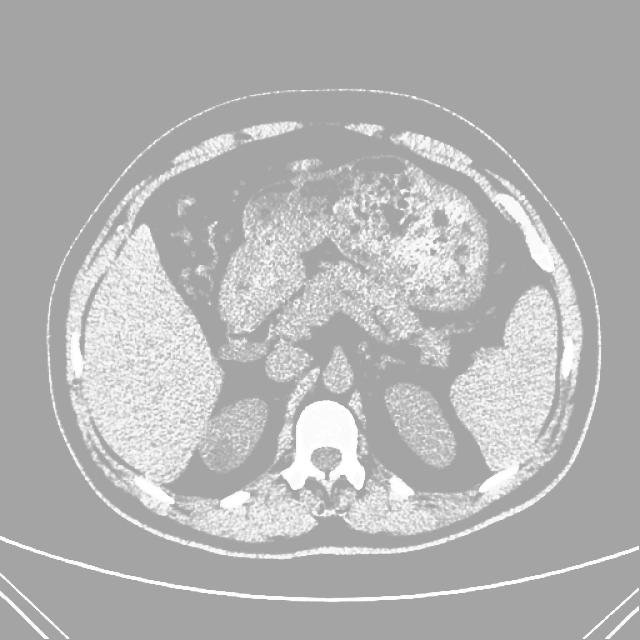cysts: (53, 100, 592, 555)
